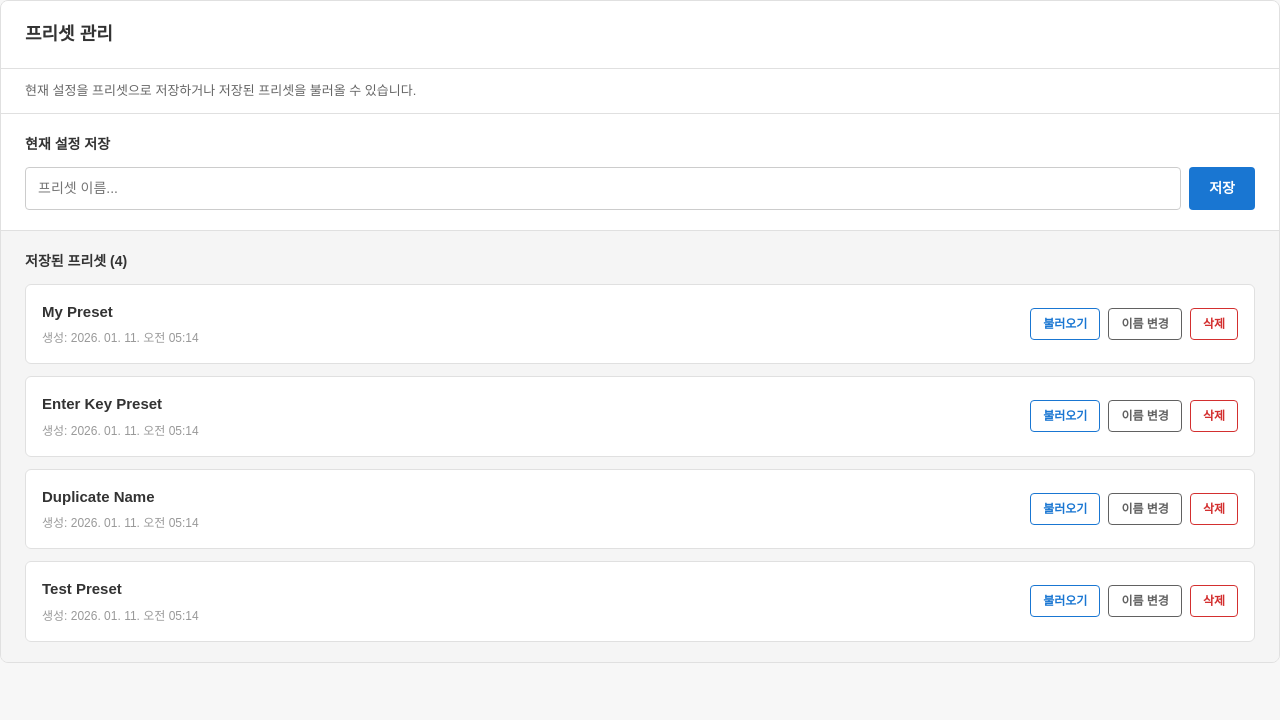
Test: PresetManager › should rename preset
The image size is (1280, 720).
// Save a preset first
Step 1. Type "Original Name" into the field with placeholder "프리셋 이름..." → [603, 188], box [25, 166, 1181, 210]
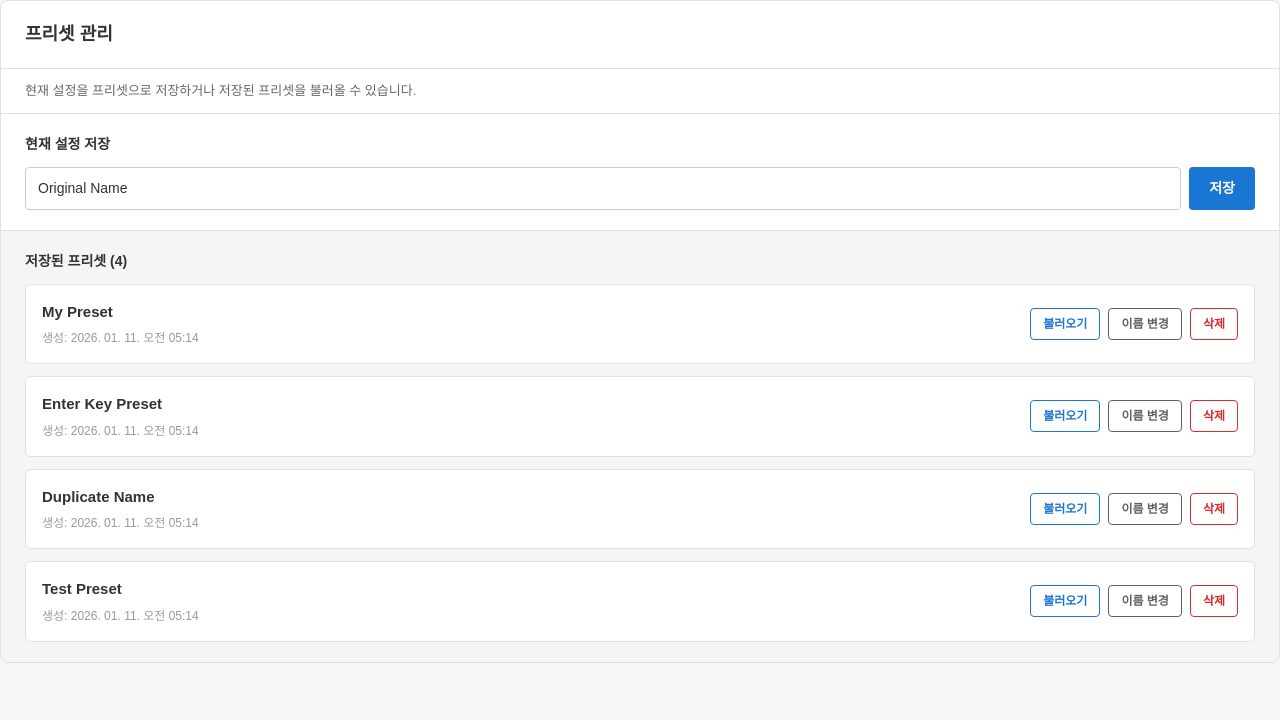
Step 2. Click the button with aria-label "프리셋 저장" → [1222, 188], box [1189, 166, 1255, 210]
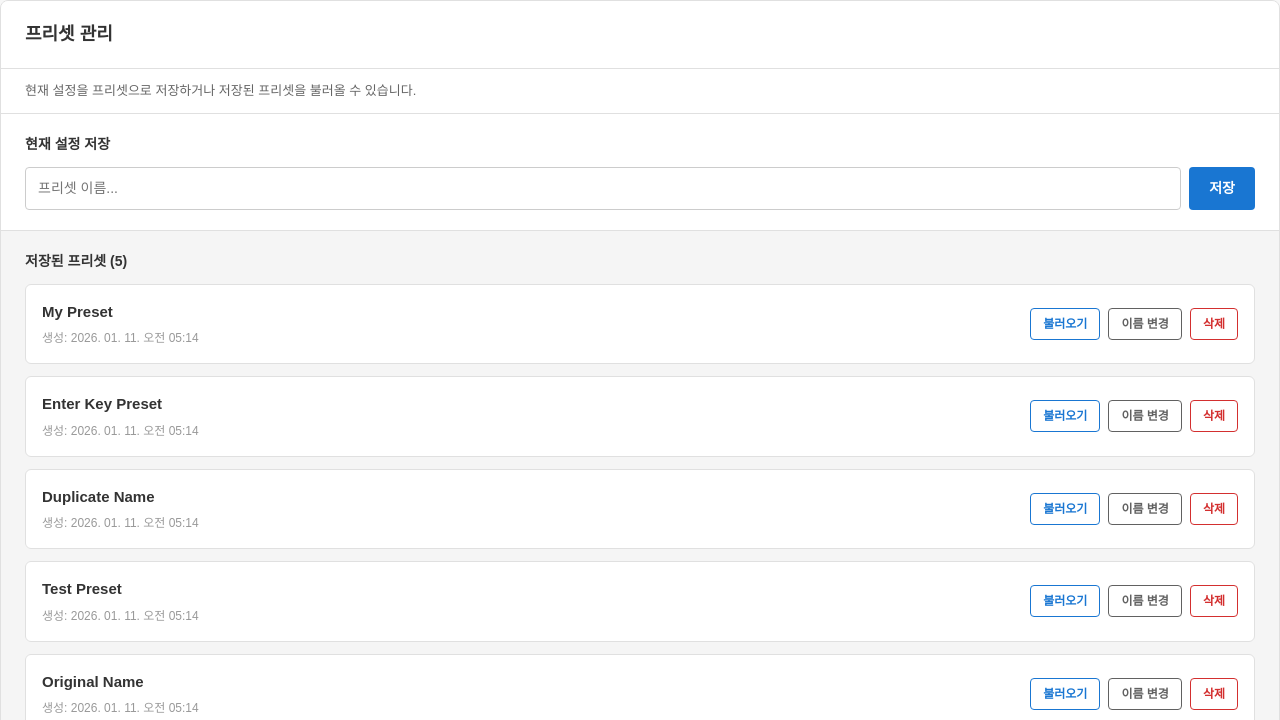
// Start editing
Step 3. Click the button with aria-label "Original Name 프리셋 이름 변경" → [1145, 694], box [1108, 678, 1182, 710]
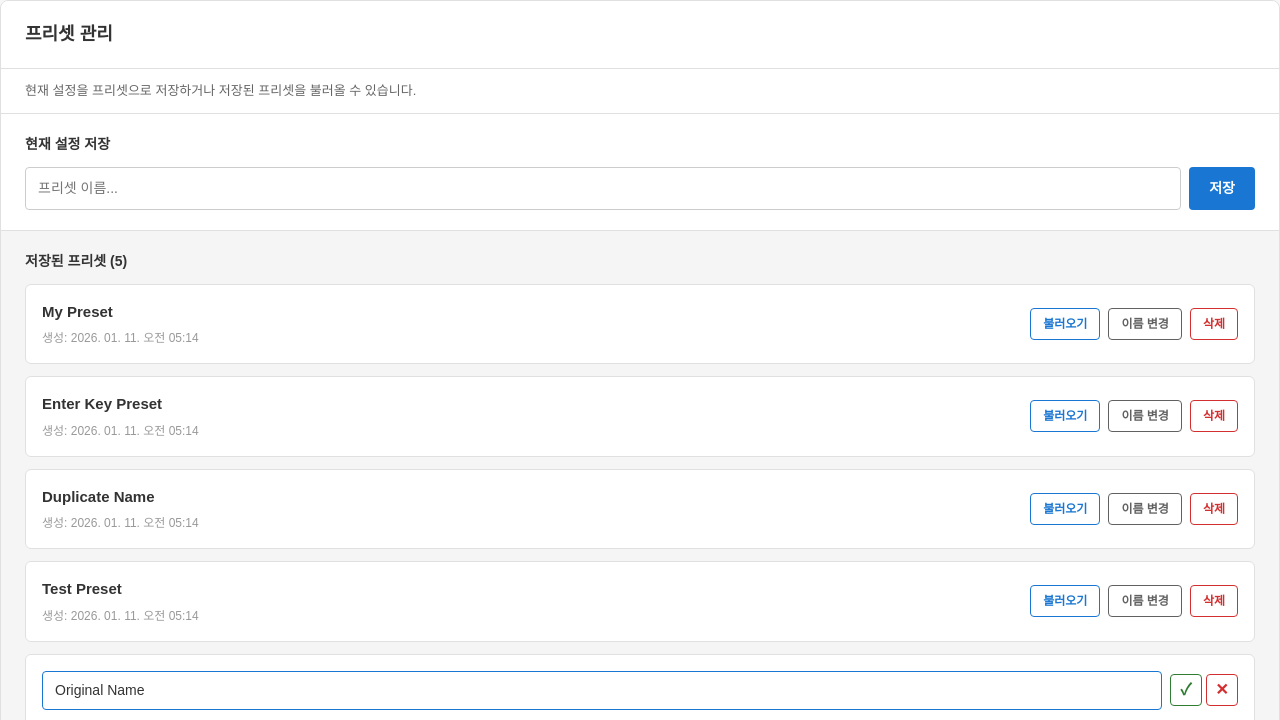
// Change name
Step 4. Replace the text in the field named "프리셋 이름 변경: Original Name" with "New Name" → [602, 690], box [42, 670, 1162, 710]
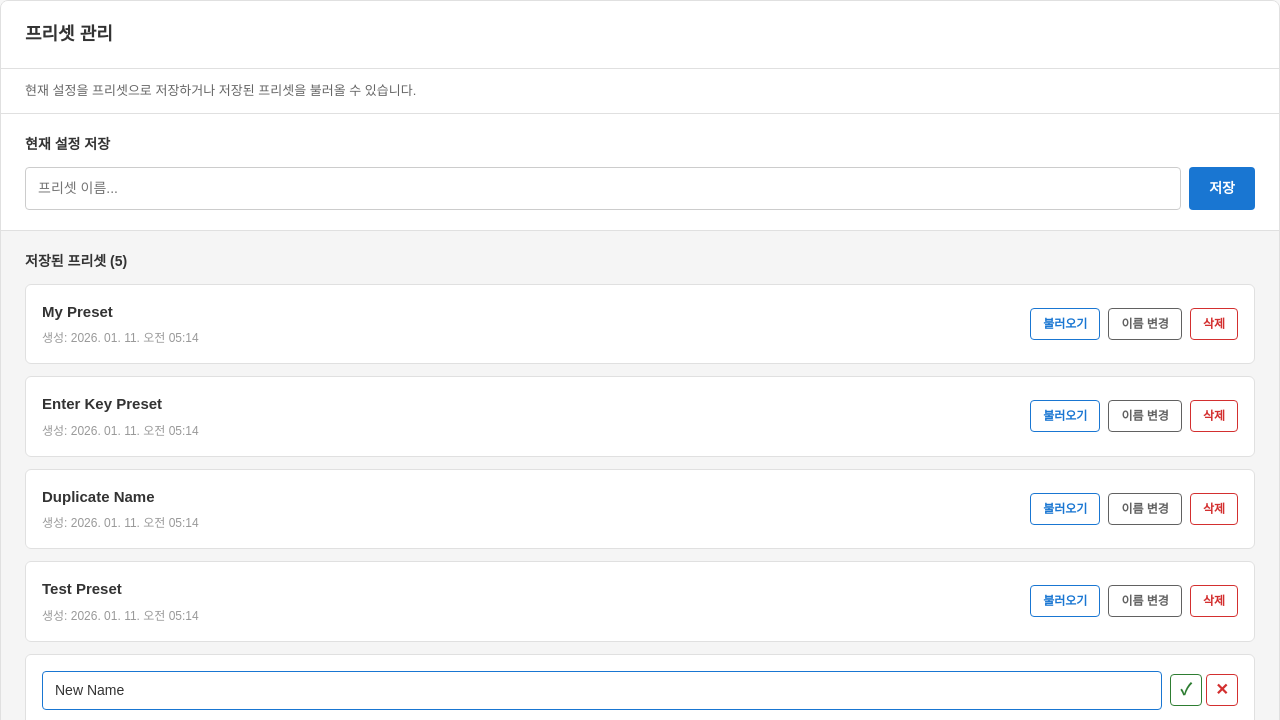
Step 5. Click the button named "변경 확인" → [1186, 690], box [1170, 674, 1202, 706]
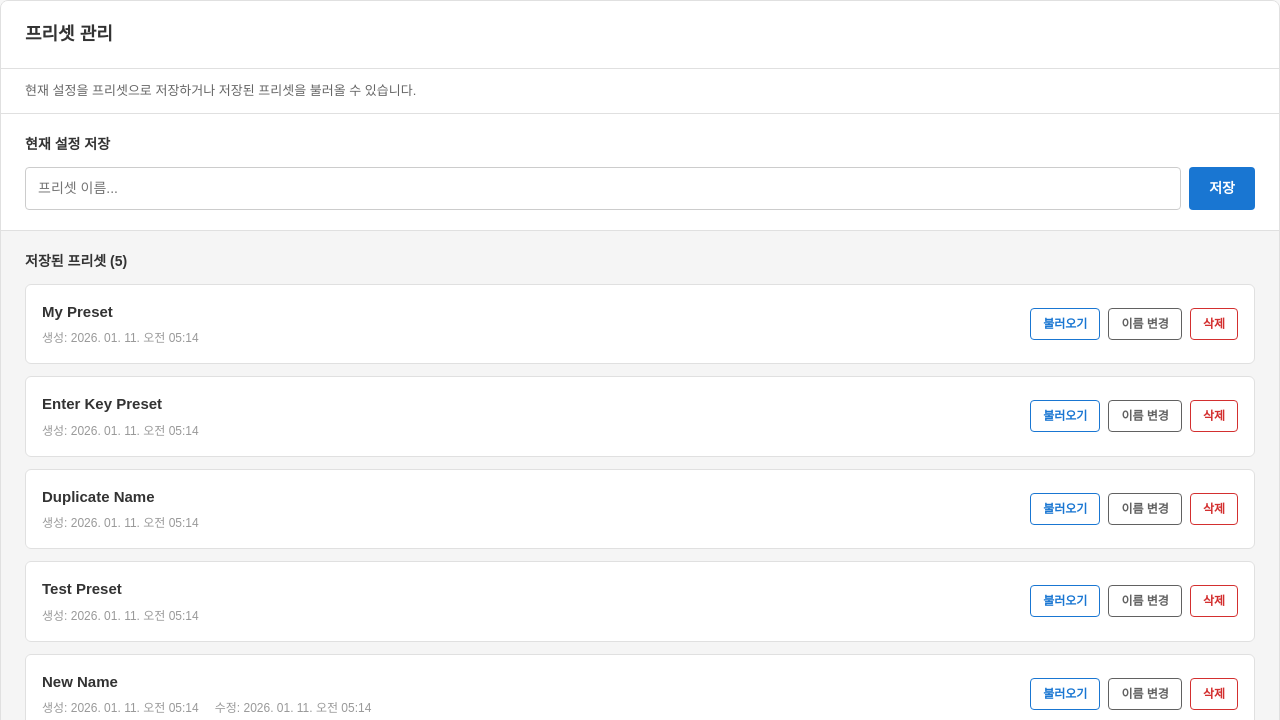
Expected: the heading "Original Name" is not shown
Expected: the heading "New Name" is shown, [42, 672, 118, 690]
